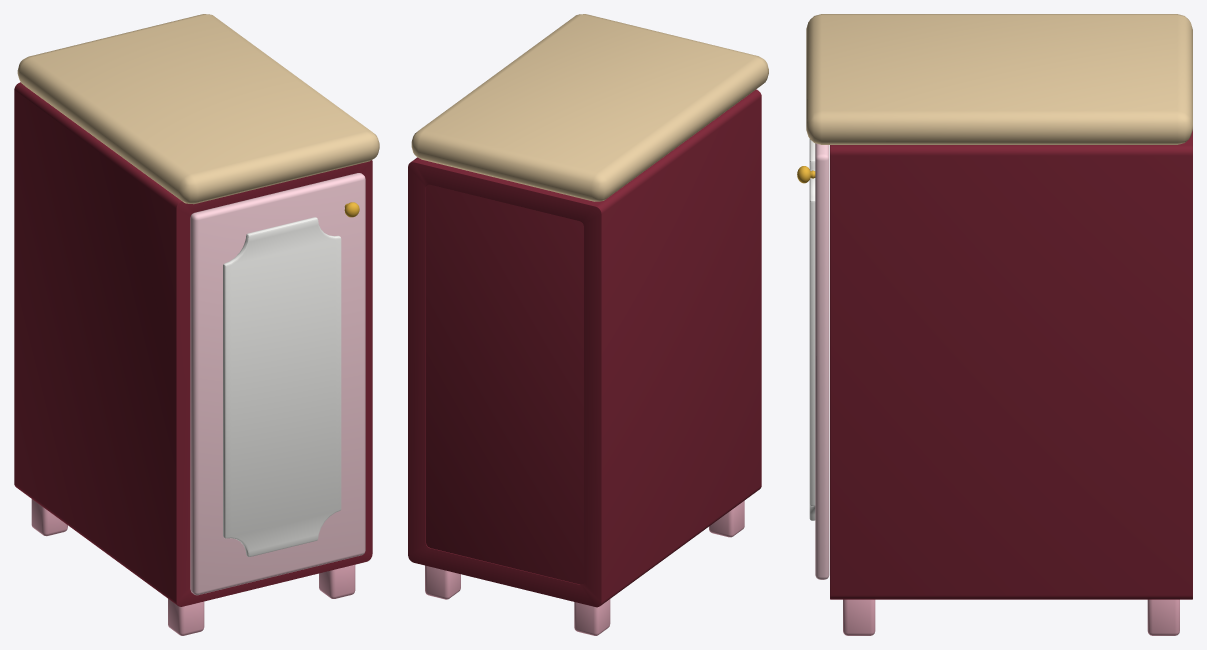
Rendered from armario_cozinha_base_1porta_classica_vinho.glb.
The picture shows the model from 3 angles, left to right: view 1: azimuth 30°, elevation 25°; view 2: azimuth 150°, elevation 25°; view 3: azimuth 270°, elevation 25°; orthographic projection. The views are drawn at different scales.
Visible parts, largest first — view 1: armario_cozinha_base_1porta_classica_vinho, porta_1; view 2: armario_cozinha_base_1porta_classica_vinho; view 3: armario_cozinha_base_1porta_classica_vinho, porta_1.
Part boxes in pixels (x1,y1,x2,y2): armario_cozinha_base_1porta_classica_vinho: [14, 14, 379, 635]; porta_1: [190, 173, 365, 595]; armario_cozinha_base_1porta_classica_vinho: [408, 14, 768, 635]; armario_cozinha_base_1porta_classica_vinho: [806, 14, 1192, 635]; porta_1: [797, 139, 829, 579].
Bounding box in the file's own units: 0.398 × 0.9 × 0.6131.
1 material, 1 textured.
